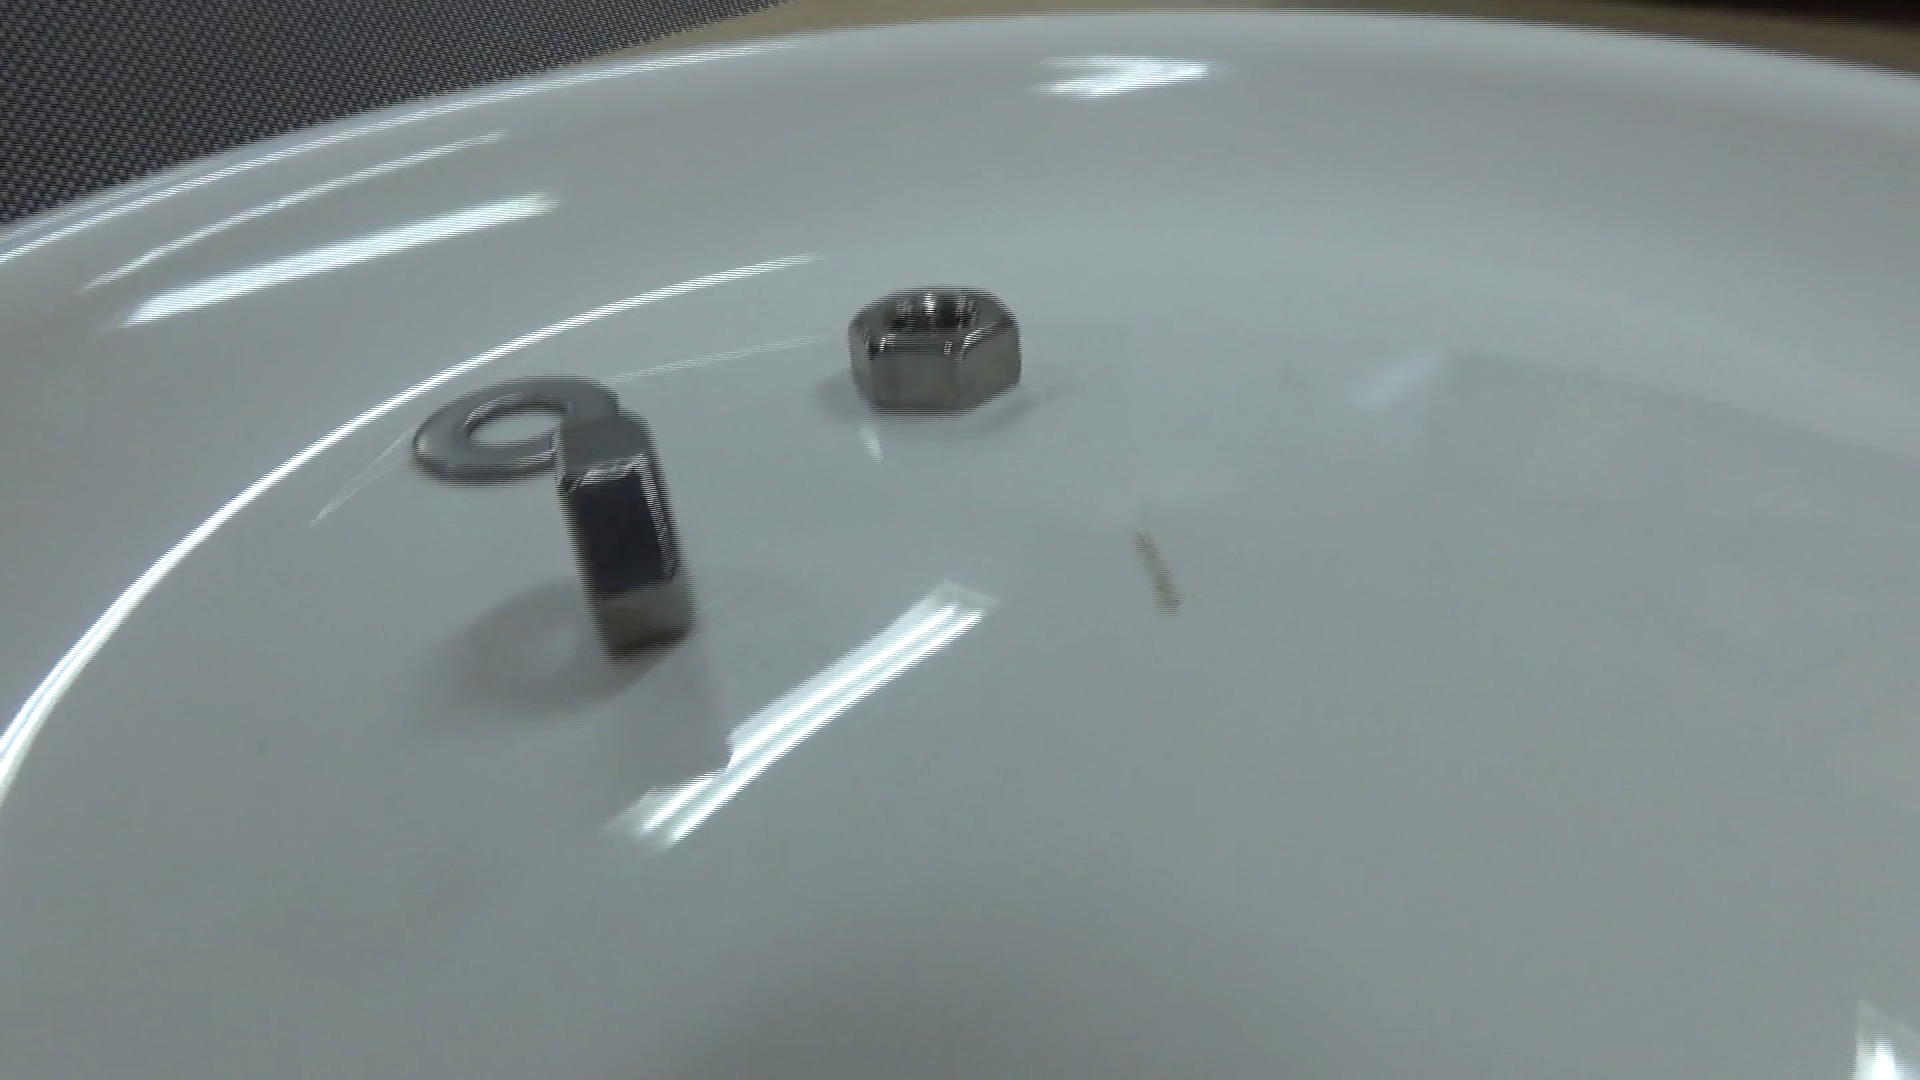nut: (551, 419, 694, 655), (843, 280, 1023, 421)
washer: (407, 372, 621, 485)
